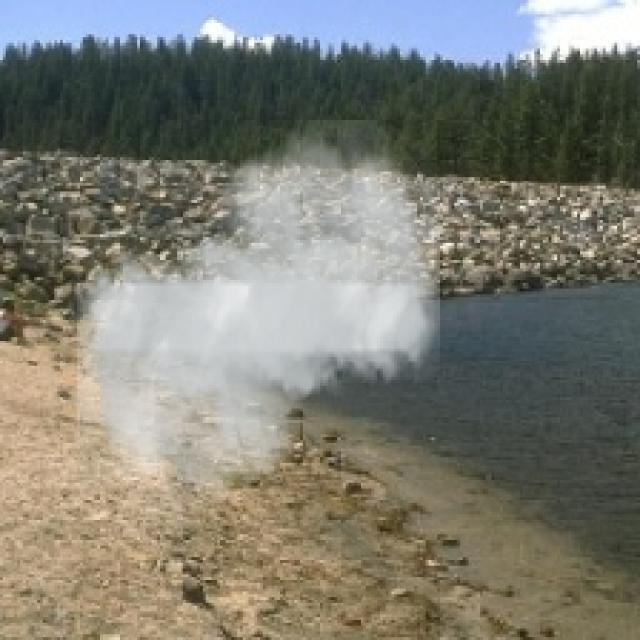Smoke: (77, 120, 440, 514)
